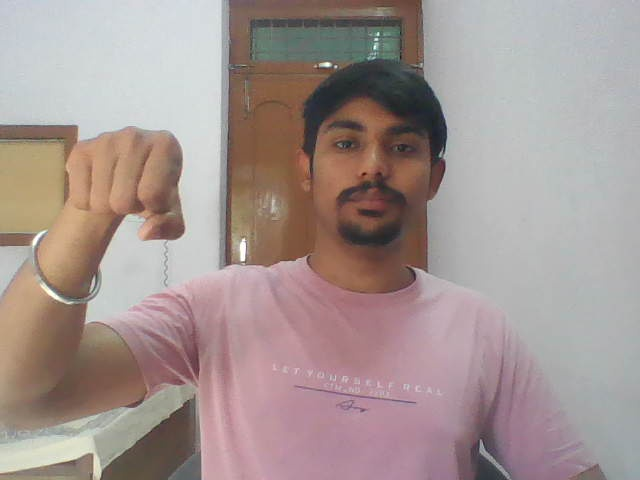Yes: (57, 119, 192, 249)
